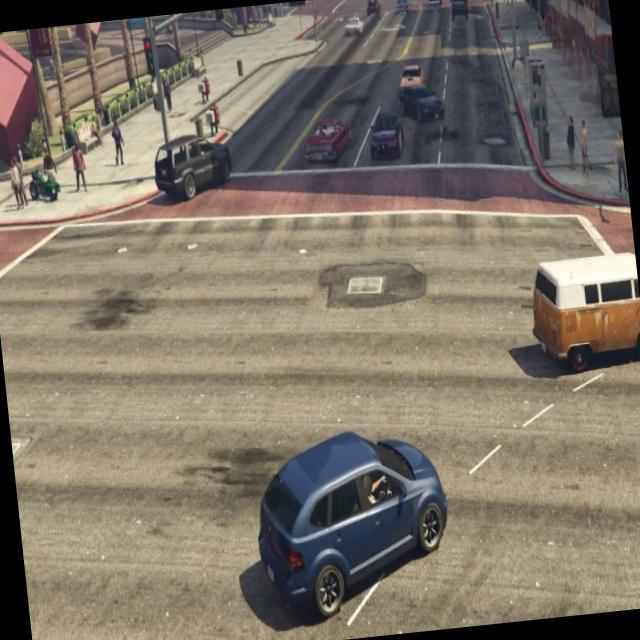Red-Signal: (130, 27, 162, 96), (202, 8, 237, 42), (281, 0, 317, 27)
